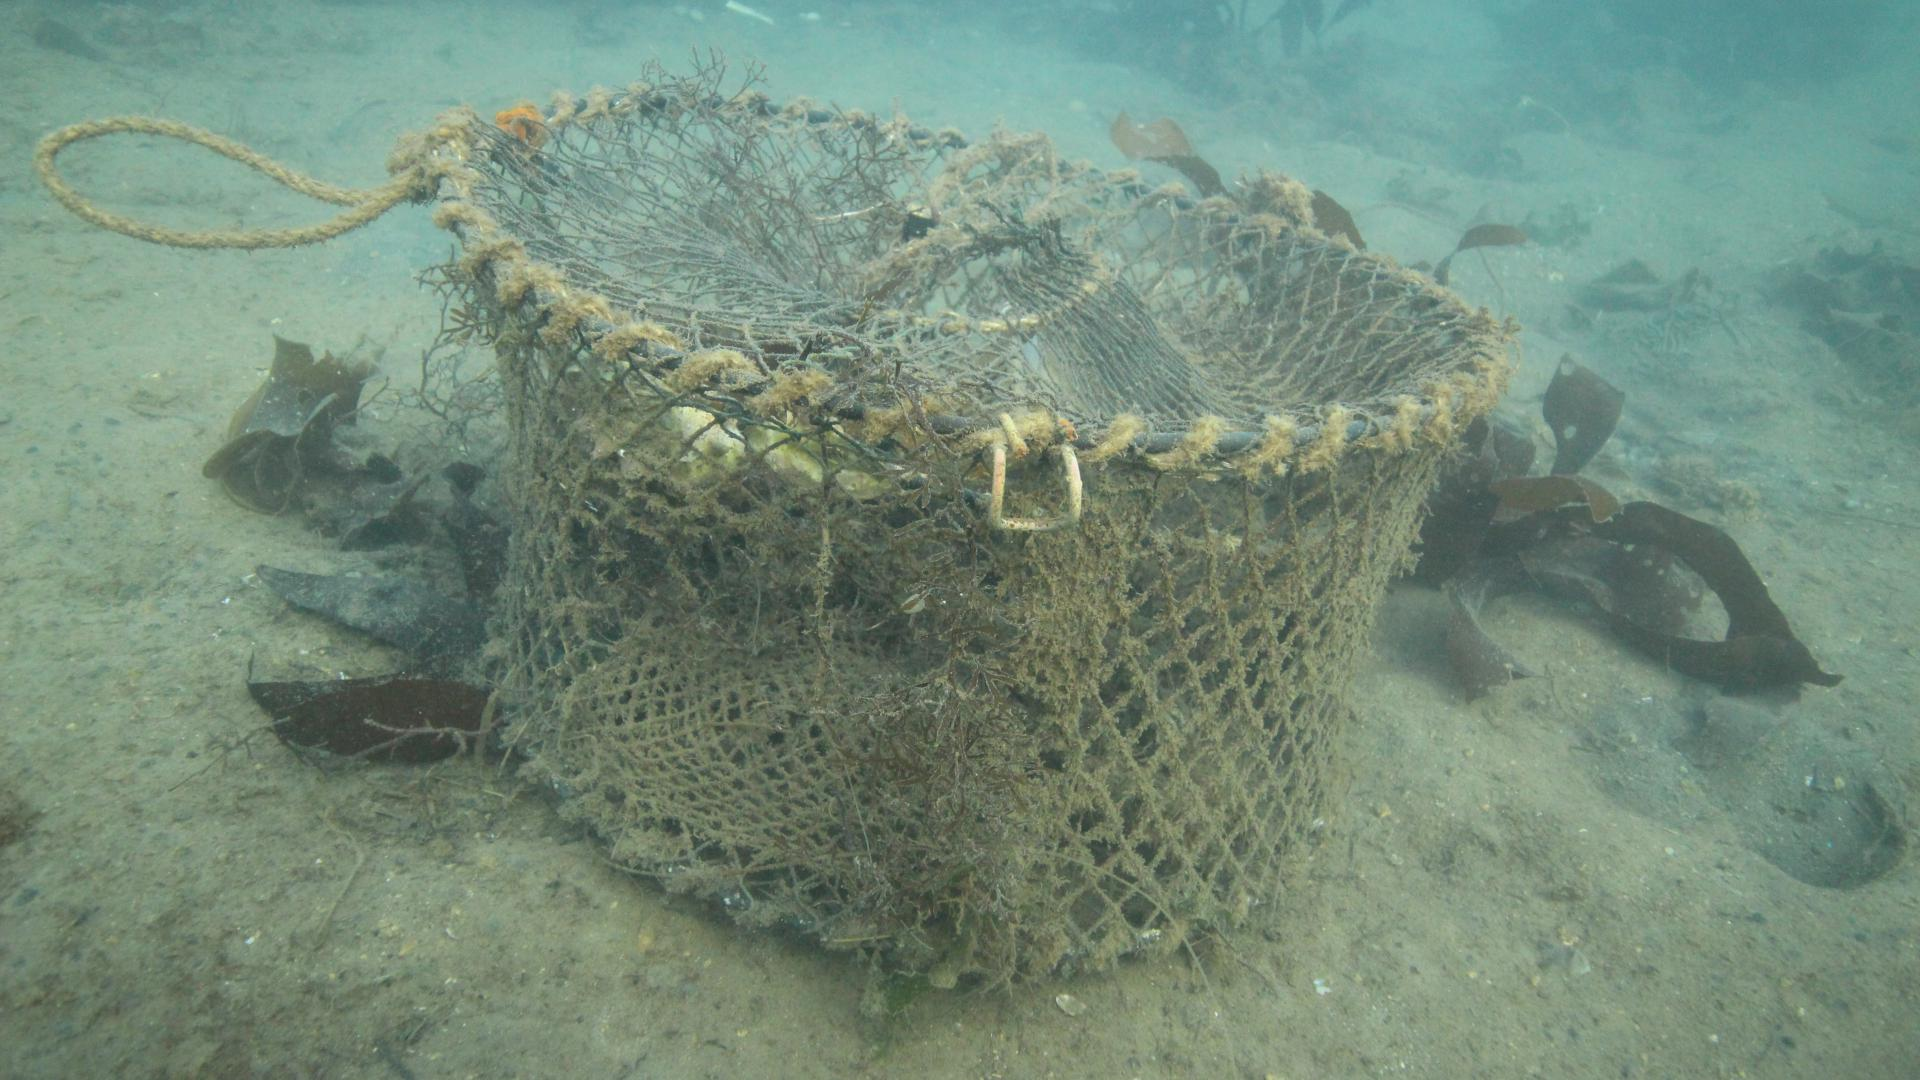circular fish trap: (425, 80, 1509, 986)
rope: (32, 109, 409, 245)
